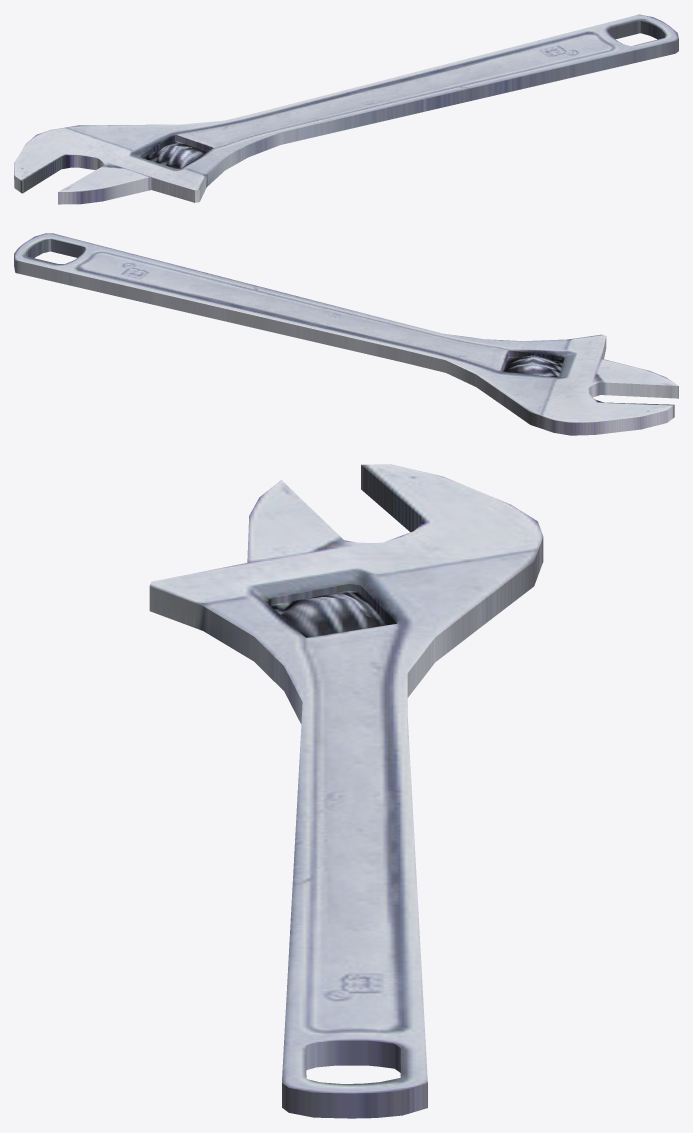
File: banshou.FBX
3 renders of one model, top to bottom at view 1: azimuth 30°, elevation 25°; view 2: azimuth 150°, elevation 25°; view 3: azimuth 270°, elevation 25°, orthographic. The views are drawn at different scales.
Parts seen in each view (by area): view 1: banshou; view 2: banshou; view 3: banshou.
Boxes of the visible parts, left/top/right/bottom form: banshou: left=14, top=14, right=678, bottom=204; banshou: left=14, top=233, right=678, bottom=435; banshou: left=149, top=464, right=543, bottom=1118.
Bounding box in the file's own units: 0.2496 × 0.00836 × 0.066.
